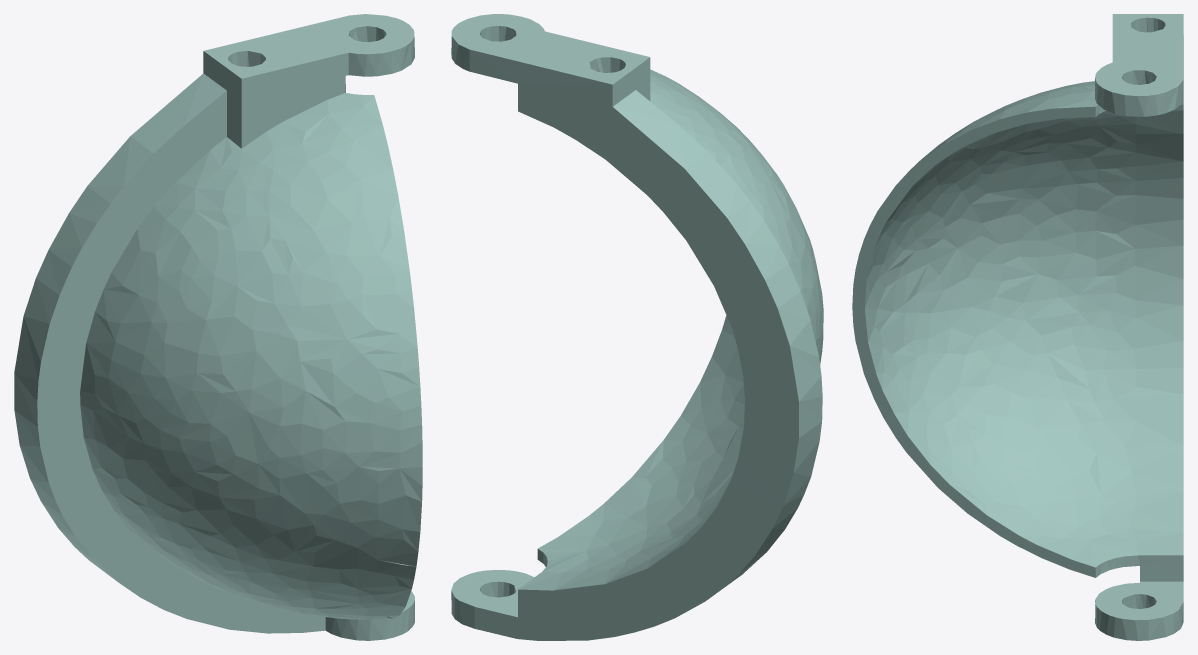
Rendered from i02_head_right_bottom_eyelid_visual.obj.light.glb.
3 views of the same model, side by side, from view 1: azimuth 30°, elevation 25°; view 2: azimuth 150°, elevation 25°; view 3: azimuth 270°, elevation 25° (orthographic). The views are drawn at different scales.
Size of the model in its own units: 0.2114 by 0.3195 by 0.1761.
